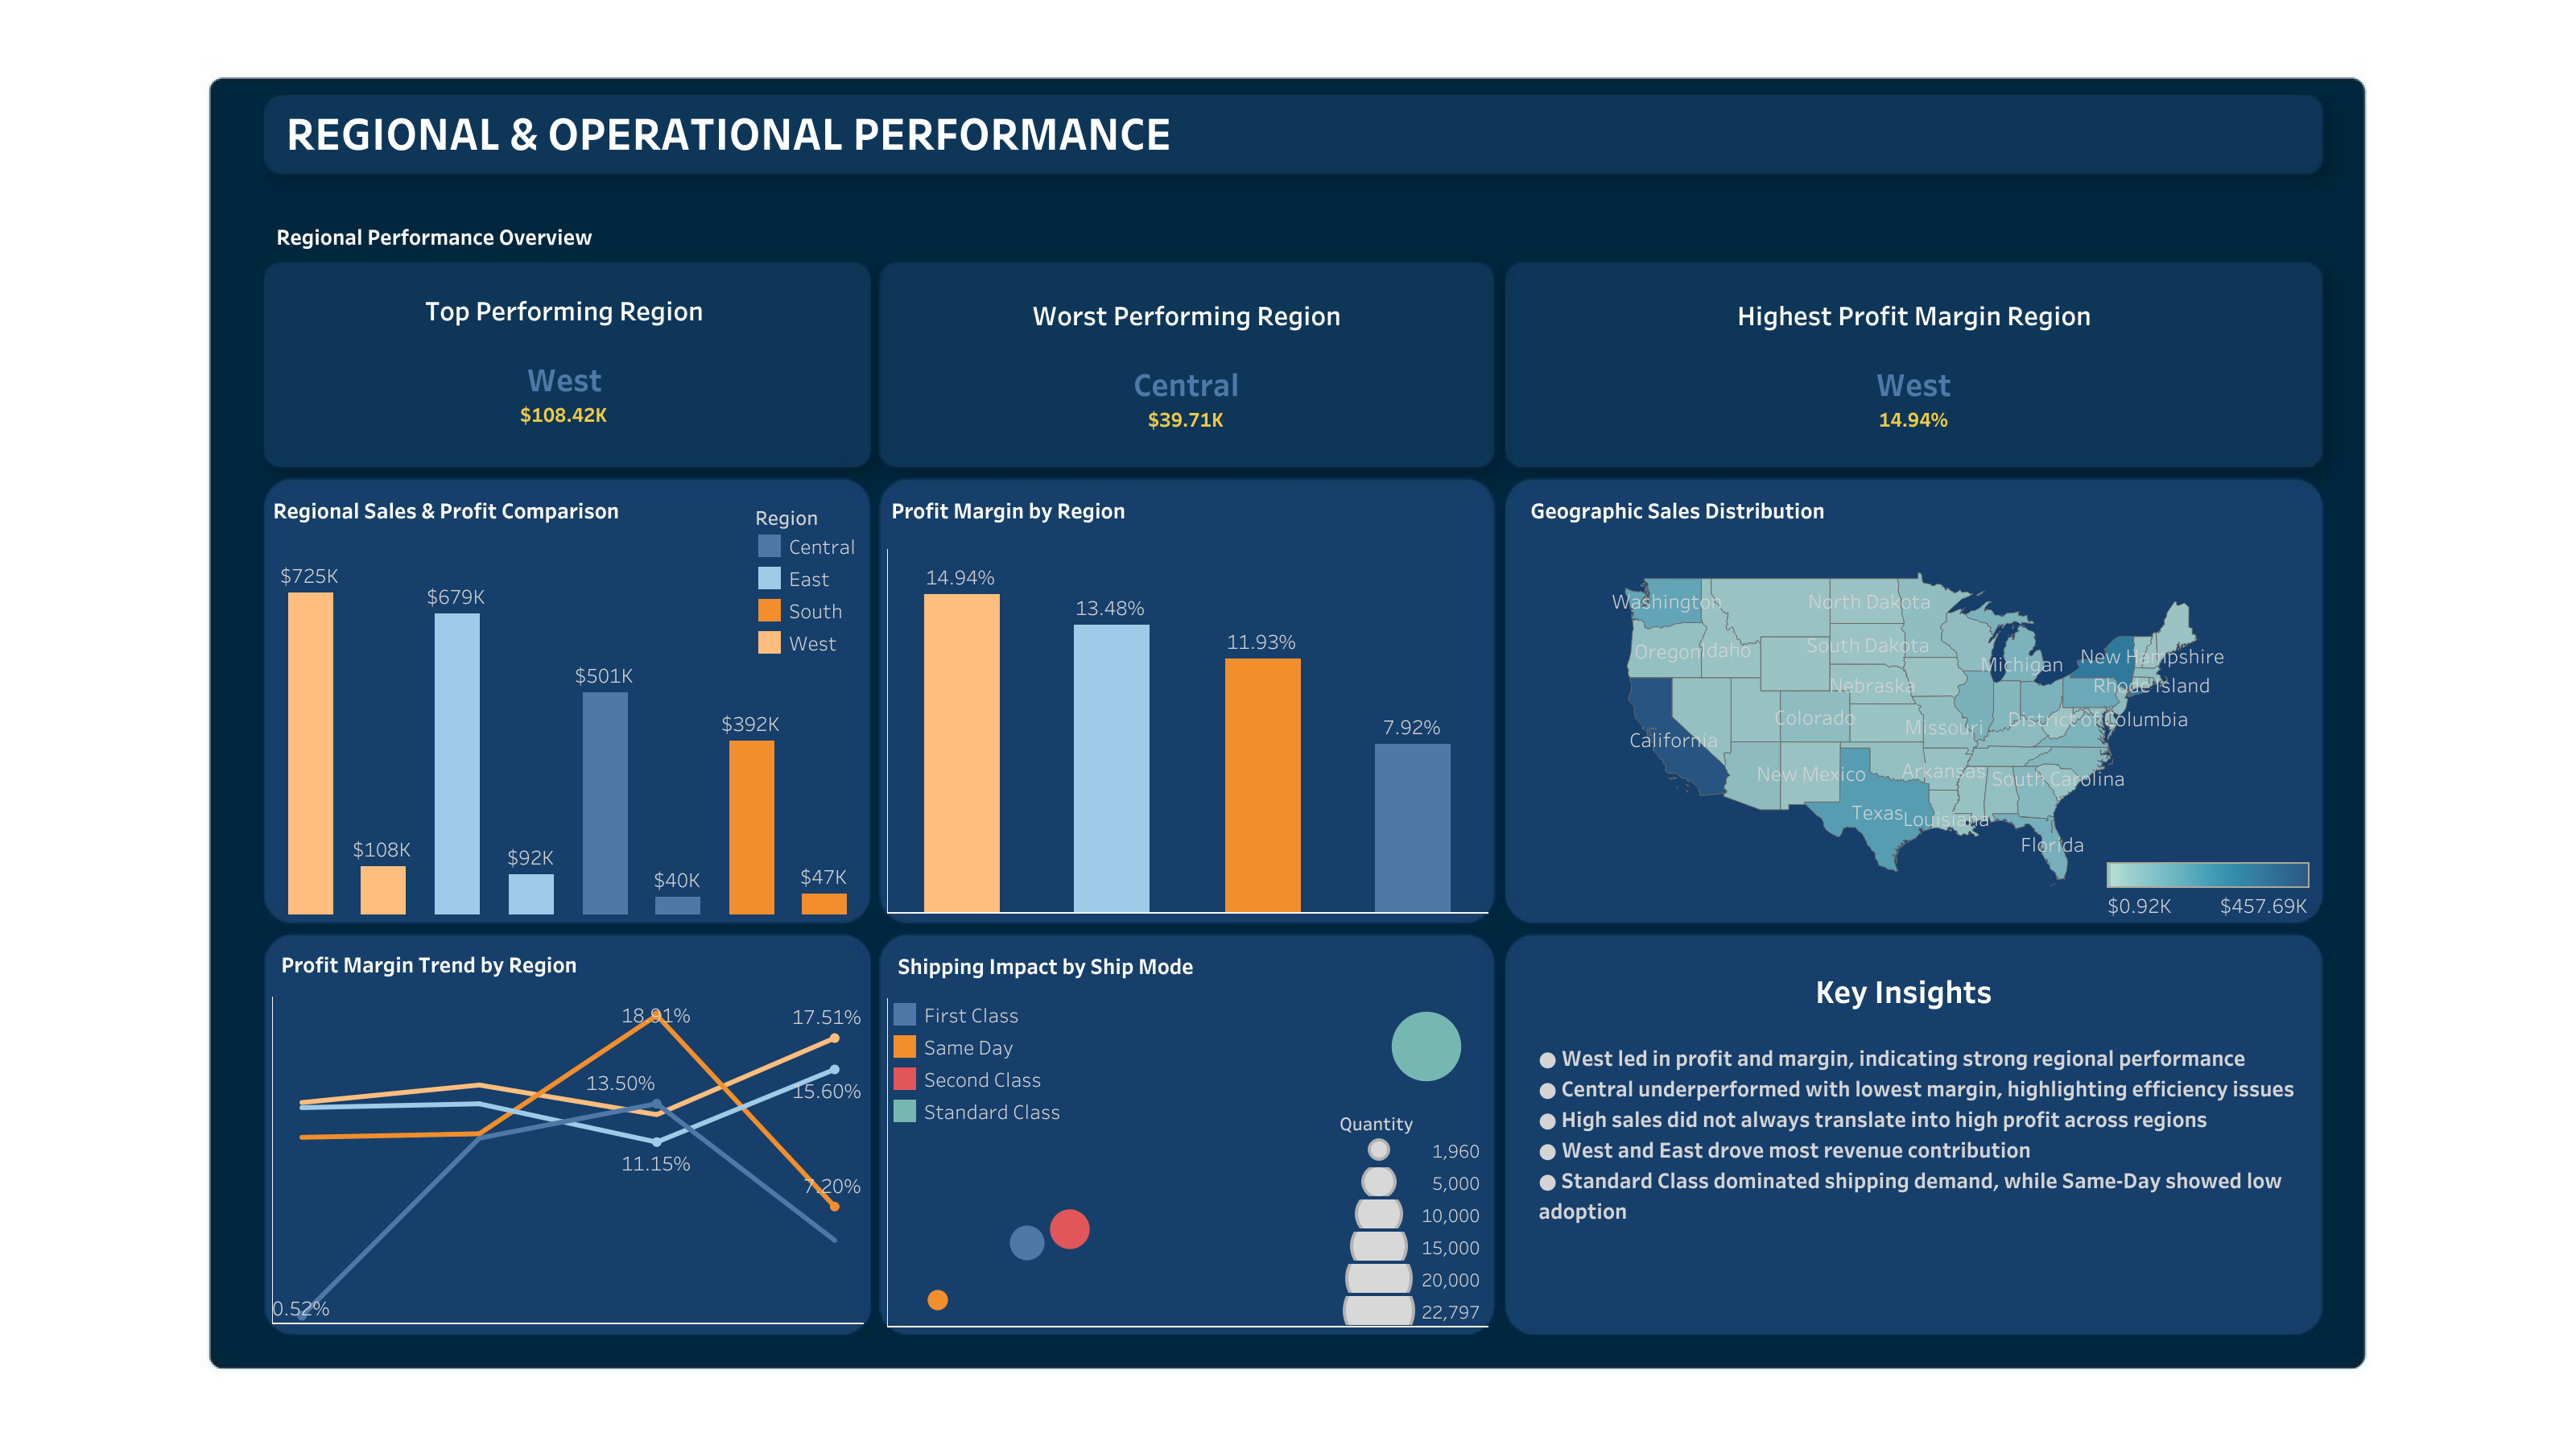

Layout of this report page (visuals, bound fields, positions):
{"tool":"tableau","page":{"name":"Regional","canvas":[1600,900],"ordinal":4},"visuals":[{"type":"image","param":"Image/White and Green Modern Clean Financial Performance Dashboard Whiteboard (4","box":[8,8,1584,884]},{"type":"text","box":[175,58,717,48]},{"type":"text","box":[169,127,655,38]},{"type":"worksheet","title":"Top Region KPI","mark":"Automatic","rows":["Region"],"box":[163,159,377,130]},{"type":"worksheet","title":"Highest Profit Margin Region KPI","mark":"Automatic","rows":["Region"],"box":[937,164,504,125]},{"type":"worksheet","title":"Worst Region KPI","mark":"Automatic","rows":["Region"],"box":[548,165,379,124]},{"type":"text","box":[167,301,233,30]},{"type":"text","box":[551,301,151,30]},{"type":"text","box":[948,301,189,30]},{"type":"legend","title":"Rev vs Profit by Region","param":"[federated.1swhbeo1rc65n71752lj502c4usx].[none:Region:nk]","box":[468,310,72,99]},{"type":"worksheet","title":"Rev vs Profit by Region","mark":"Bar","rows":["Sales","Profit"],"cols":["Region"],"box":[166,336,373,236]},{"type":"worksheet","title":"Sales by State","mark":"Automatic","box":[936,336,502,234]},{"type":"worksheet","title":"Profit Margin by Region","mark":"Automatic","rows":["Profit Margin CY (copy)_0001088186183755"],"cols":["Region"],"box":[547,337,381,234]},{"type":"legend","title":"Sales by State","param":"[federated.1swhbeo1rc65n71752lj502c4usx].[sum:Sales:qk]","box":[1305,532,134,38]},{"type":"text","box":[172,583,281,30]},{"type":"text","box":[555,584,276,30]},{"type":"text","box":[1125,600,115,30]},{"type":"worksheet","title":"Growth trend by region","mark":"Automatic","rows":["Profit Margin CY (copy)_0001088186183755"],"cols":["Order Date"],"box":[165,615,375,211]},{"type":"worksheet","title":"Shipping impact","mark":"Circle","rows":["Profit"],"cols":["Sales"],"box":[547,616,381,212]},{"type":"legend","title":"Shipping impact","param":"[federated.1swhbeo1rc65n71752lj502c4usx].[none:Ship Mode:nk]","box":[552,620,117,82]},{"type":"text","box":[953,636,486,154]},{"type":"legend","title":"Shipping impact","param":"[federated.1swhbeo1rc65n71752lj502c4usx].[sum:Quantity:qk]","box":[831,688,107,140]}]}

Visuals, with their boxes in screenshot pixels (x1, y1, x2, y2), scaled from the page's 1600x900 canvas onto the 2576x1449 screenshot:
image: x1=13, y1=13, x2=2563, y2=1436
text: x1=282, y1=93, x2=1436, y2=171
text: x1=272, y1=204, x2=1327, y2=266
"Top Region KPI" worksheet: x1=262, y1=256, x2=869, y2=465
"Highest Profit Margin Region KPI" worksheet: x1=1509, y1=264, x2=2320, y2=465
"Worst Region KPI" worksheet: x1=882, y1=266, x2=1492, y2=465
text: x1=269, y1=485, x2=644, y2=533
text: x1=887, y1=485, x2=1130, y2=533
text: x1=1526, y1=485, x2=1831, y2=533
"Rev vs Profit by Region" legend: x1=753, y1=499, x2=869, y2=658
"Rev vs Profit by Region" worksheet (Bar marks): x1=267, y1=541, x2=868, y2=921
"Sales by State" worksheet: x1=1507, y1=541, x2=2315, y2=918
"Profit Margin by Region" worksheet: x1=881, y1=543, x2=1494, y2=919
"Sales by State" legend: x1=2101, y1=857, x2=2317, y2=918
text: x1=277, y1=939, x2=729, y2=987
text: x1=894, y1=940, x2=1338, y2=989
text: x1=1811, y1=966, x2=1996, y2=1014
"Growth trend by region" worksheet: x1=266, y1=990, x2=869, y2=1330
"Shipping impact" worksheet (Circle marks): x1=881, y1=992, x2=1494, y2=1333
"Shipping impact" legend: x1=889, y1=998, x2=1077, y2=1130
text: x1=1534, y1=1024, x2=2317, y2=1272
"Shipping impact" legend: x1=1338, y1=1108, x2=1510, y2=1333
